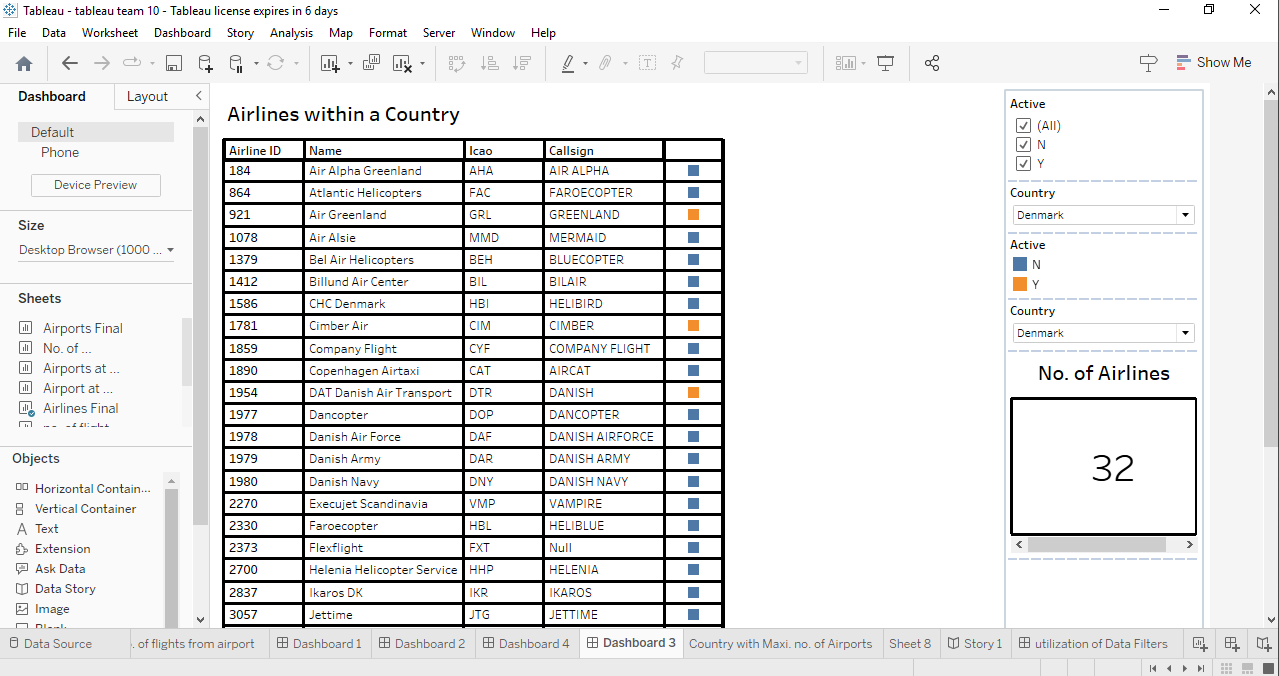

Layout of this report page (visuals, bound fields, positions):
{"tool":"tableau","page":{"name":"Dashboard 3","canvas":[1000,800],"ordinal":2},"visuals":[{"type":"worksheet","title":"Airlines Final","mark":"Automatic","rows":["Airline ID","Name","ICAO","Callsign"],"box":[8,8,788,784]},{"type":"filter","title":"Airlines Final","param":"[federated.12byijz1si6xmv18ua5wi1x2ltqk].[none:Active:nk]","box":[796,8,196,89]},{"type":"filter","title":"Airlines Final","param":"[federated.12byijz1si6xmv18ua5wi1x2ltqk].[none:Country:nk]","box":[796,97,196,52]},{"type":"legend","title":"Airlines Final","param":"[federated.12byijz1si6xmv18ua5wi1x2ltqk].[none:Active:nk]","box":[796,149,196,66]},{"type":"filter","title":"Sheet 8","param":"[federated.12byijz1si6xmv18ua5wi1x2ltqk].[none:Country:nk]","box":[796,215,196,52]},{"type":"worksheet","title":"Sheet 8","mark":"Automatic","box":[796,267,196,208]}]}

Visuals, with their boxes on the page's 1000x800 design canvas (x1, y1, x2, y2). These are canvas units, not pixel positions in the 1279x676 screenshot, which may show the page scaled, cropped or inside an application window:
"Airlines Final" worksheet: <box>8,8,796,792</box>
"Airlines Final" filter: <box>796,8,992,97</box>
"Airlines Final" filter: <box>796,97,992,149</box>
"Airlines Final" legend: <box>796,149,992,215</box>
"Sheet 8" filter: <box>796,215,992,267</box>
"Sheet 8" worksheet: <box>796,267,992,475</box>
